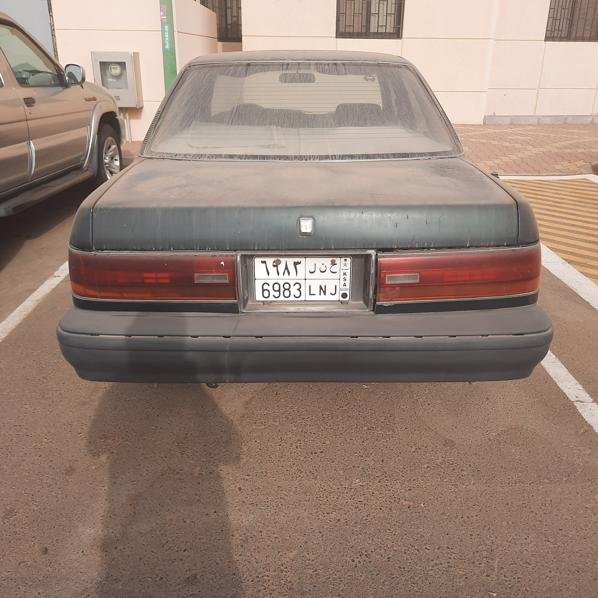numberplate: (254, 257, 351, 302)
